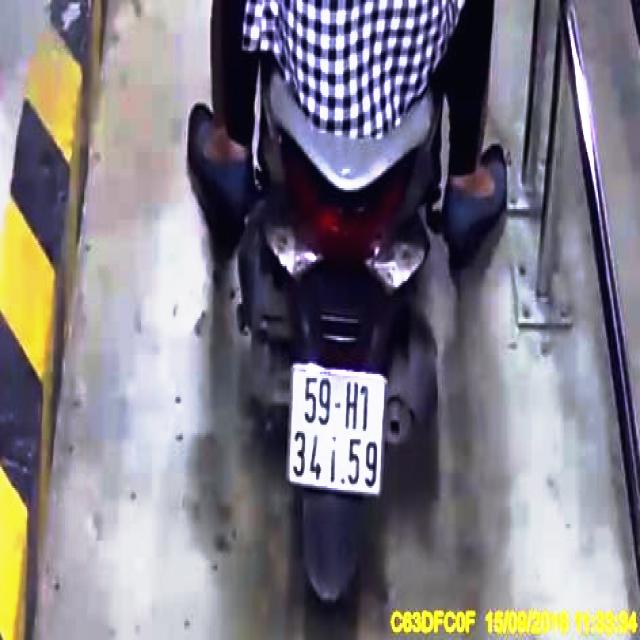license_plate: (289, 368, 387, 496)
